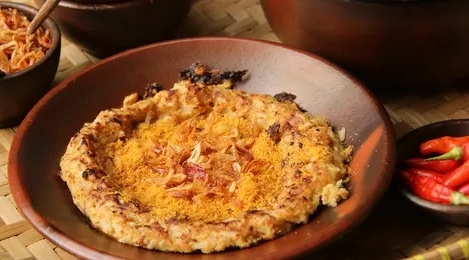kerak_telor: (59, 83, 350, 255)
